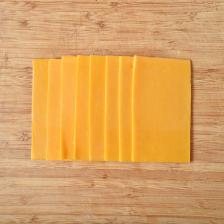cheese: (132, 54, 192, 164), (104, 55, 150, 162), (73, 54, 116, 161), (46, 58, 88, 160), (60, 54, 99, 162), (31, 58, 72, 160), (88, 55, 127, 162), (119, 55, 157, 163)
